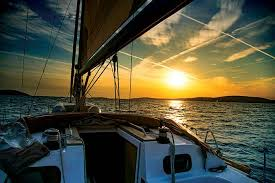boat: (1, 1, 266, 183)
